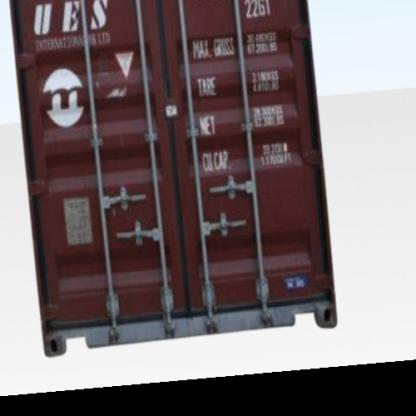Damage: (84, 41, 132, 99)
